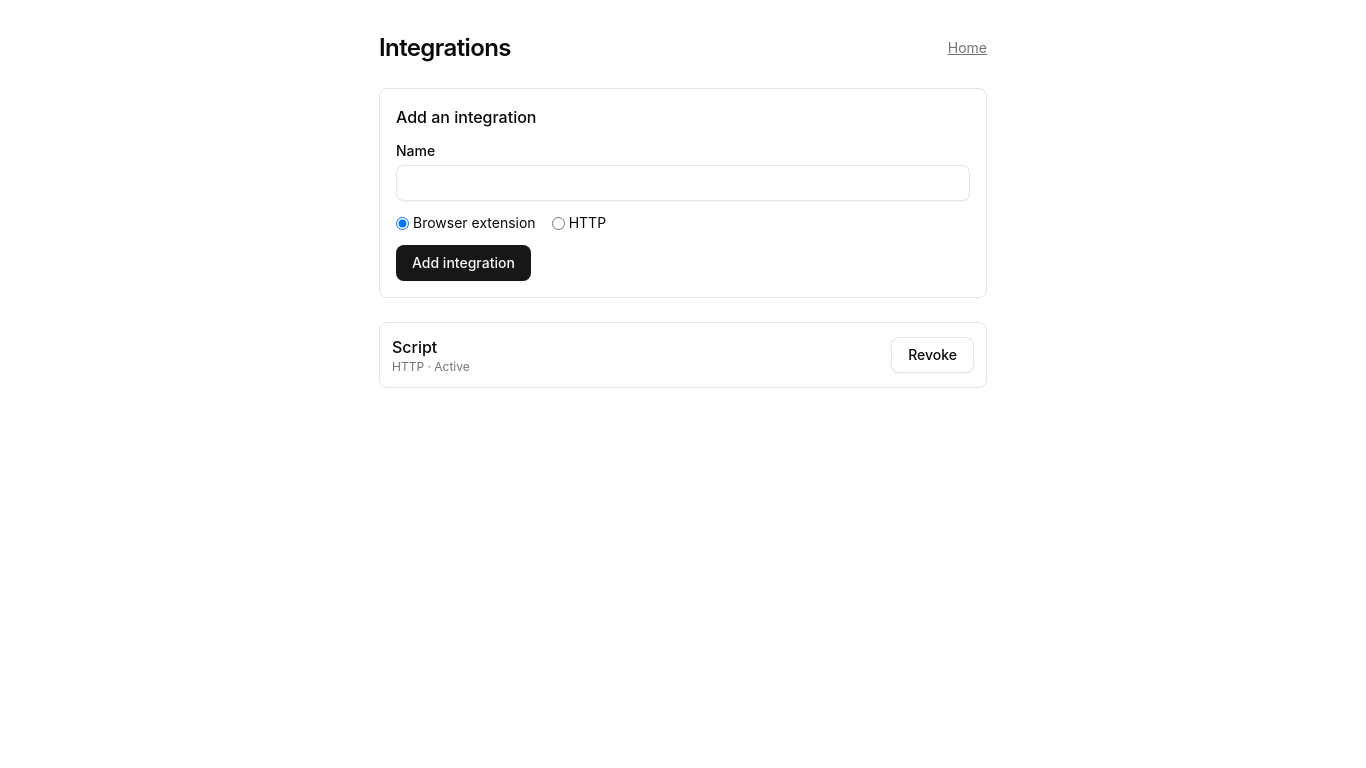
Test: integrations page › revokes after confirmation and shows the new status
Click the button with aria-label "revoke script" at (933, 355), box top-left (891, 337), bottom-right (974, 373)
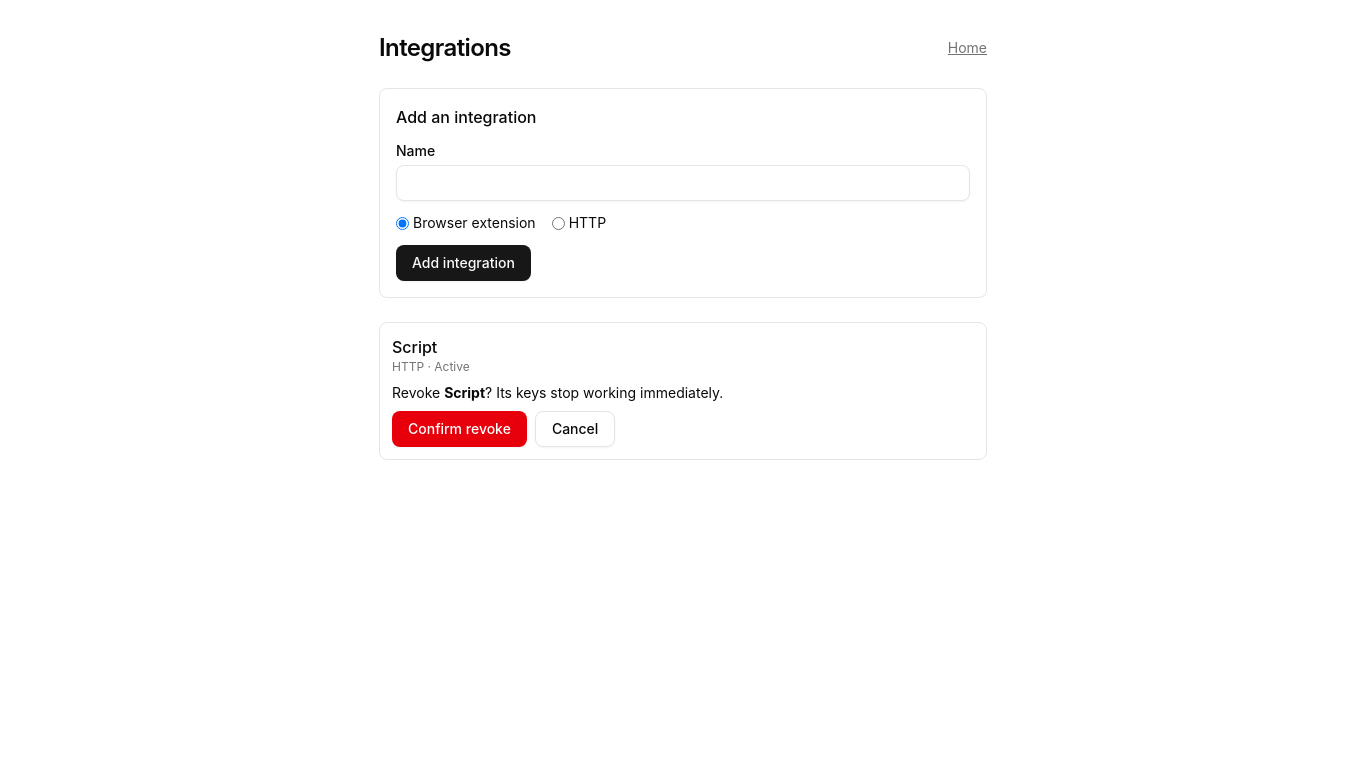
Click the button "Confirm revoke" at (459, 429), box top-left (392, 411), bottom-right (527, 447)
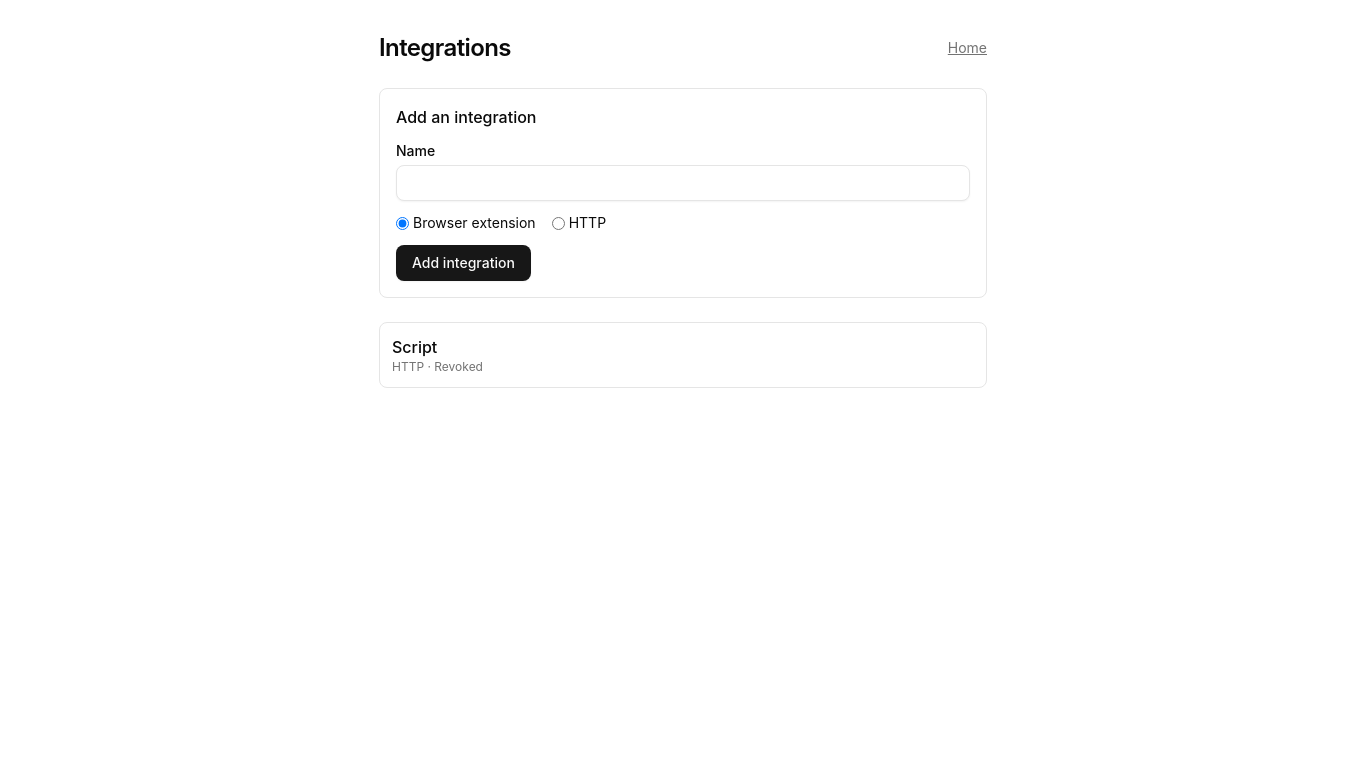
Expected: the text "HTTP · Revoked" is shown, top-left (392, 359), bottom-right (483, 375)
Expected: the button "Revoke Script" is gone
